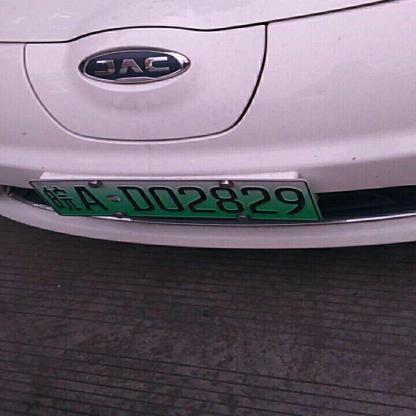lp: (58, 180, 319, 219)
